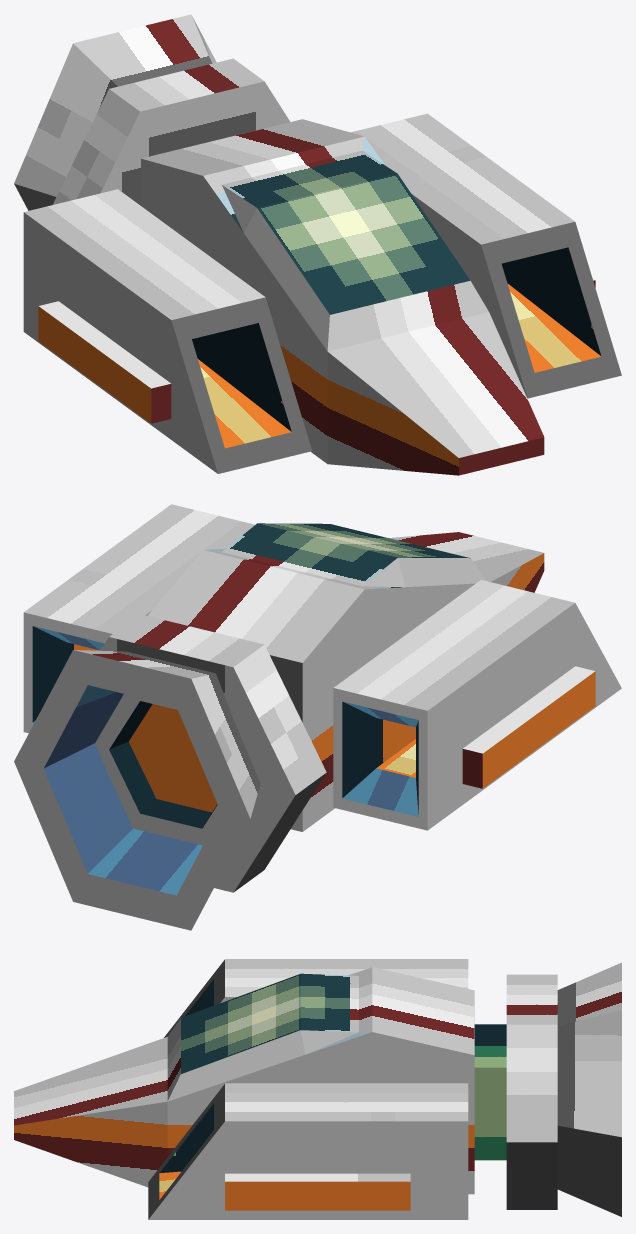
Rendered from Spaceship.fbx.
3 views of the same model, one above another, from view 1: azimuth 30°, elevation 25°; view 2: azimuth 150°, elevation 25°; view 3: azimuth 270°, elevation 25° (orthographic). The views are drawn at different scales.
Parts seen in each view (by area): view 1: cuboid; view 2: cuboid; view 3: cuboid.
Boxes of the visible parts, <box> form: cuboid: <box>14,14,621,475</box>; cuboid: <box>14,504,621,930</box>; cuboid: <box>14,959,621,1219</box>.
Bounding box in the file's own units: 103 × 55.88 × 148.
1 material, 1 textured.
